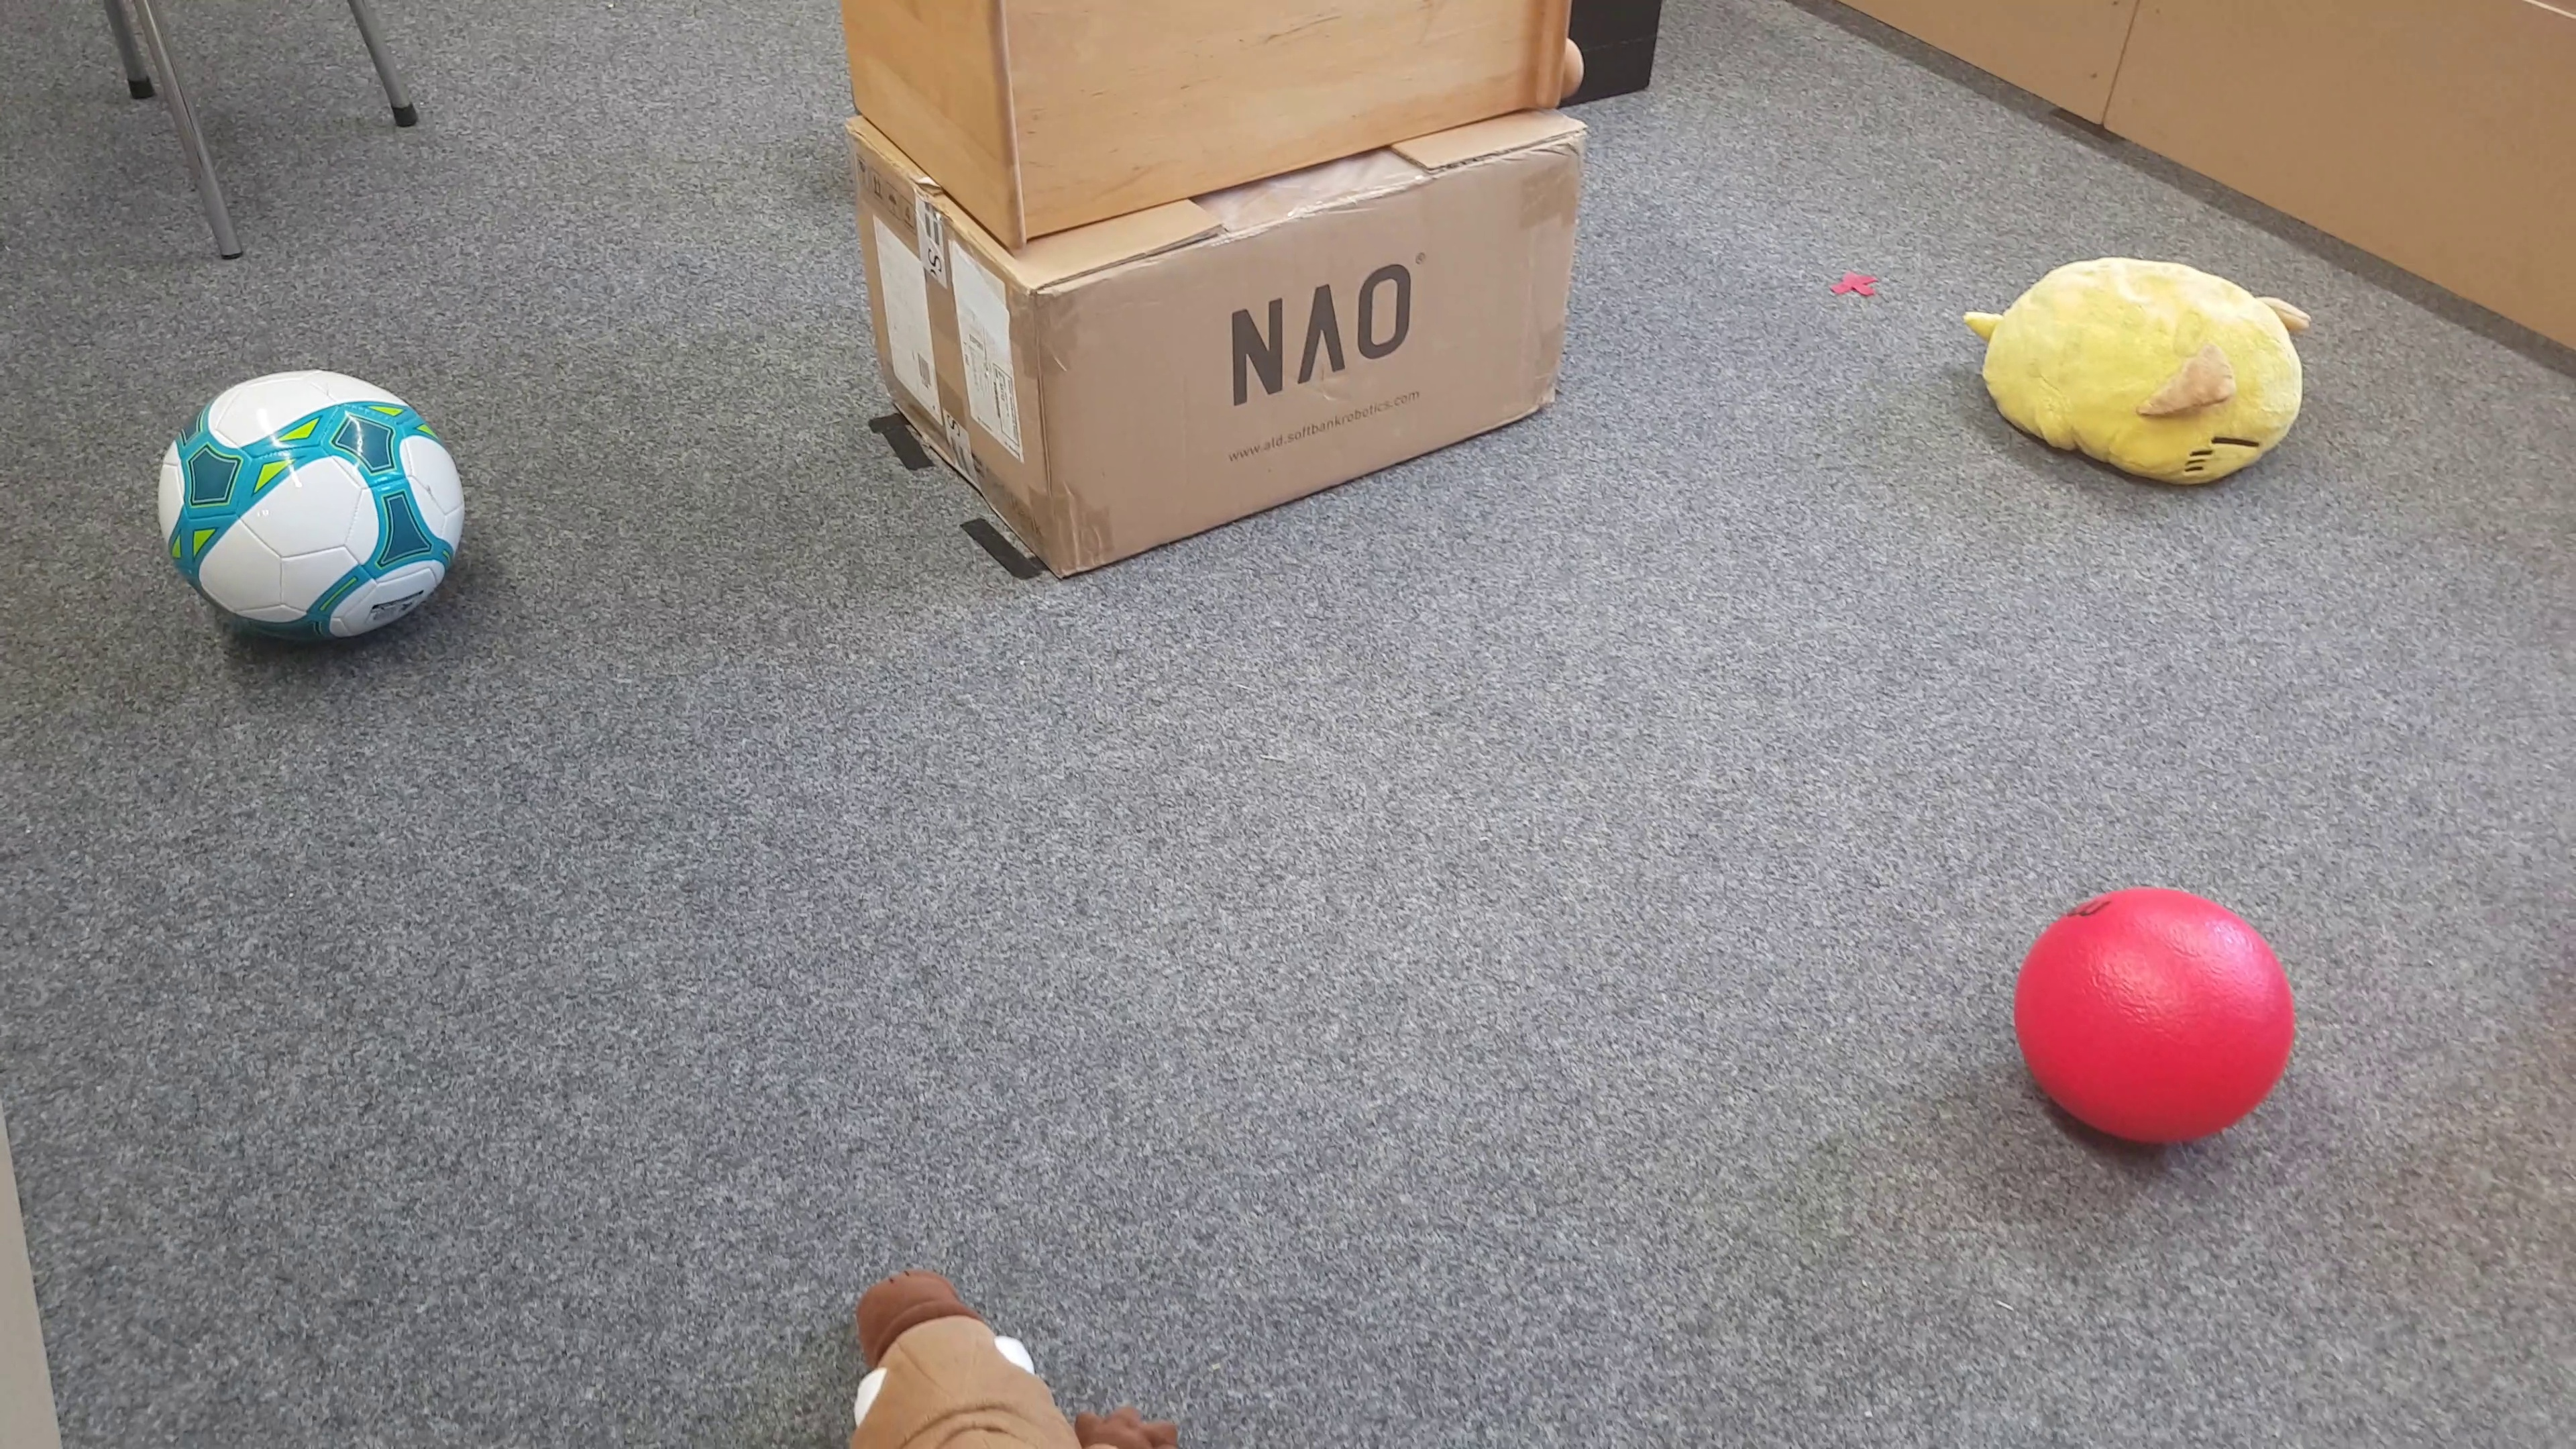grasp: (1960, 255, 2312, 495), (796, 1272, 1173, 1449)
kick: (145, 361, 465, 651), (2020, 888, 2300, 1146)
